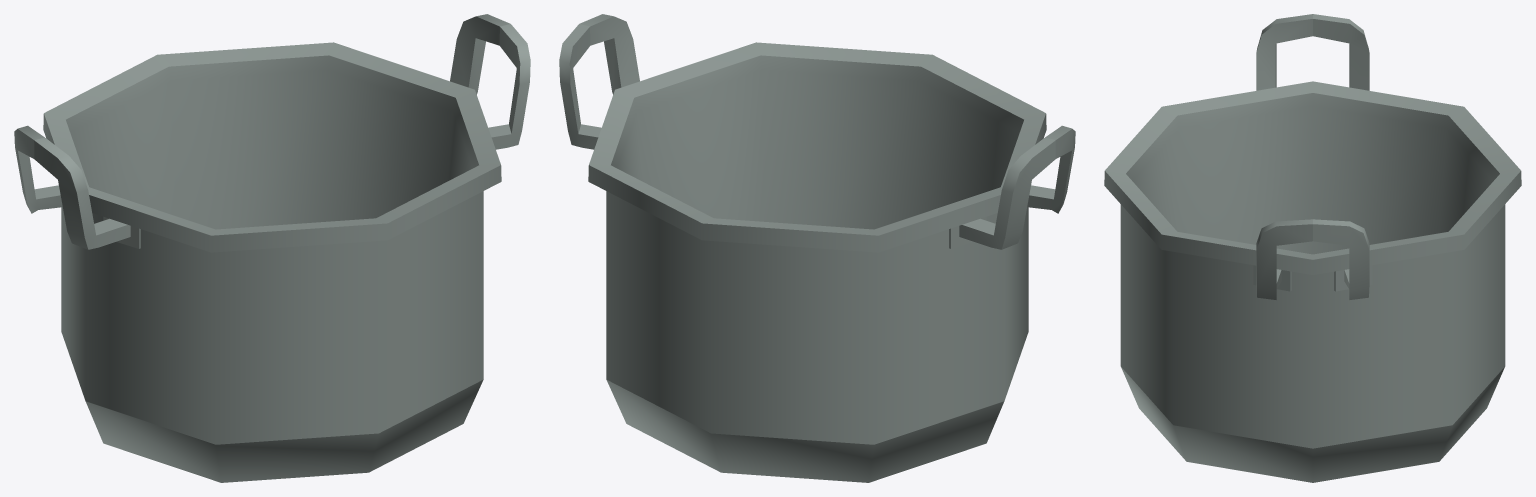
File: panci.fbx
3 renders of one model, left to right at view 1: azimuth 30°, elevation 25°; view 2: azimuth 150°, elevation 25°; view 3: azimuth 270°, elevation 25°, orthographic. The views are drawn at different scales.
Visible parts, largest first — view 1: Cube.054; view 2: Cube.054; view 3: Cube.054.
Boxes of the visible parts, bbox=[...] form: Cube.054: bbox=[14, 14, 530, 482]; Cube.054: bbox=[559, 14, 1075, 482]; Cube.054: bbox=[1104, 14, 1521, 482].
Bounding box in the file's own units: 78.12 × 50.14 × 65.55.
